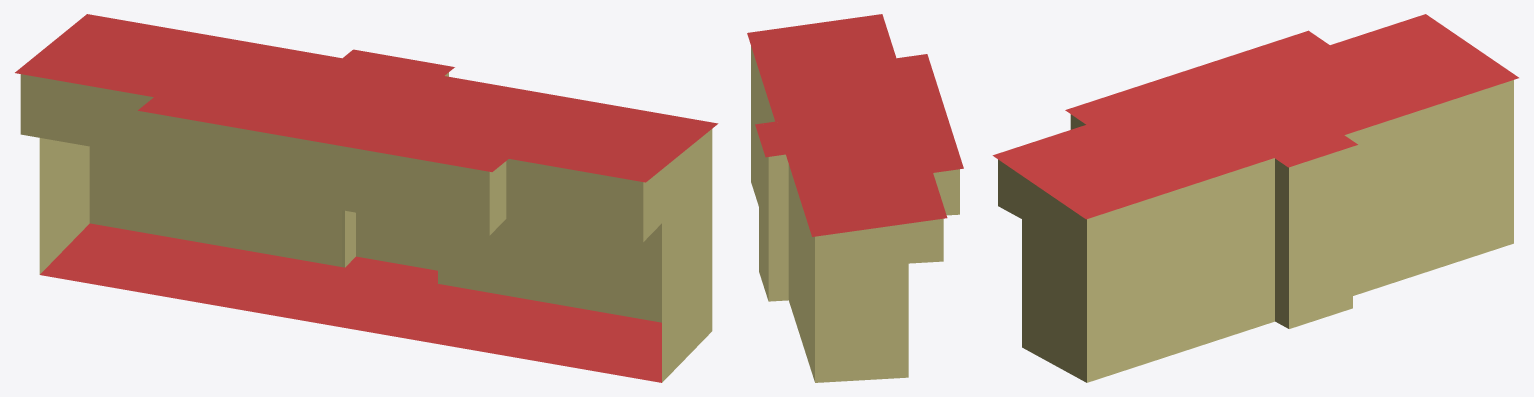
3 renders of one model, left to right at view 1: azimuth 30°, elevation 25°; view 2: azimuth 150°, elevation 25°; view 3: azimuth 270°, elevation 25°, orthographic. The views are drawn at different scales.
Bounding box in the file's own units: 28.92 × 33.42 × 12.69.
